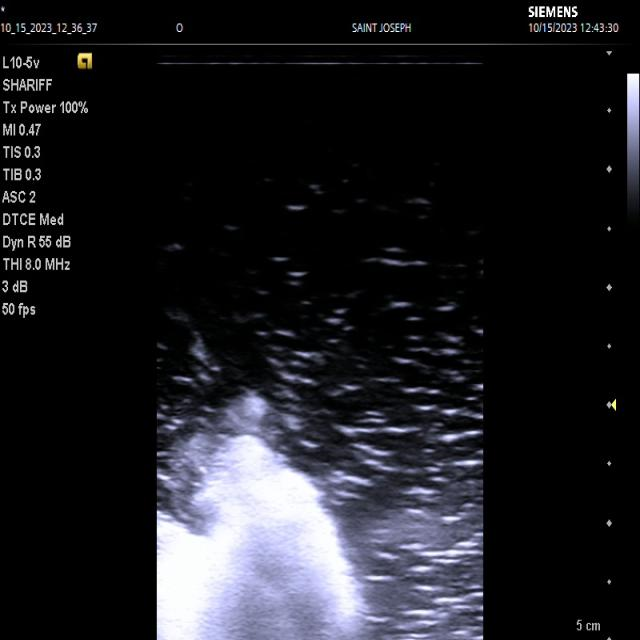tissue: (157, 435, 370, 640)
